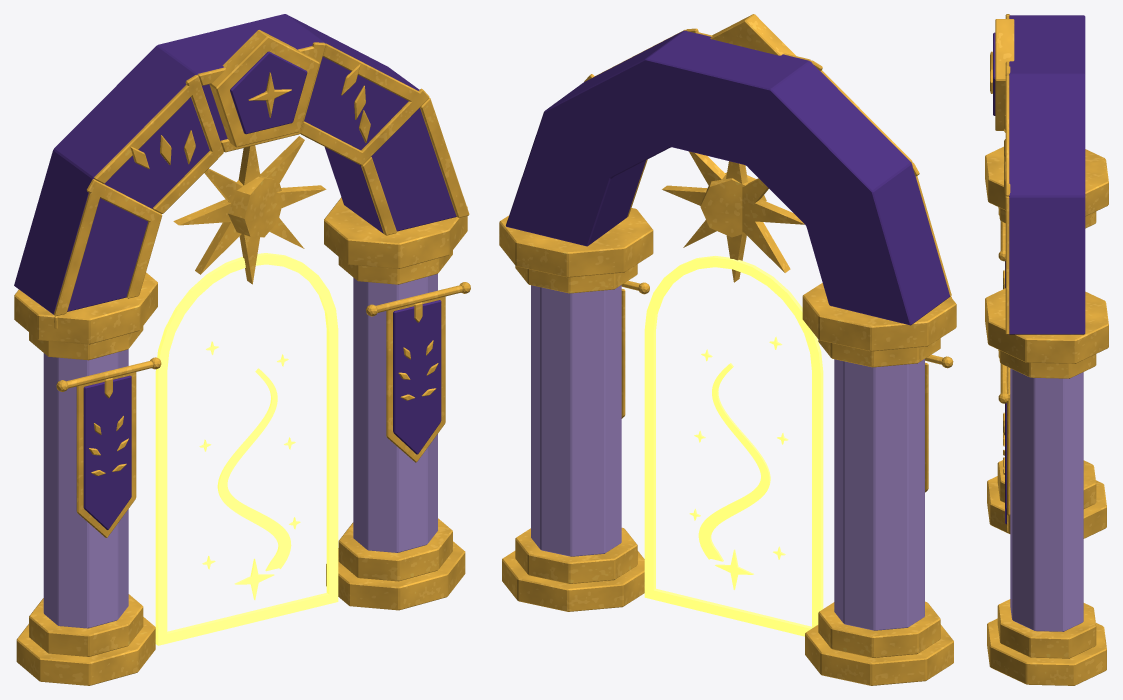
The model's file is Puerta.fbx.
3 renders of one model, left to right at view 1: azimuth 30°, elevation 25°; view 2: azimuth 150°, elevation 25°; view 3: azimuth 270°, elevation 25°, orthographic. The views are drawn at different scales.
Parts seen in each view (by area): view 1: Kit_Puerta, Kit_Puerta_Hoja, Kit_Puerta_Sol; view 2: Kit_Puerta, Kit_Puerta_Hoja, Kit_Puerta_Sol; view 3: Kit_Puerta.
Boxes of the visible parts, box(x1,y1,x2,y2) form: Kit_Puerta: box(14, 14, 470, 685); Kit_Puerta_Hoja: box(155, 253, 338, 645); Kit_Puerta_Sol: box(173, 136, 326, 284); Kit_Puerta: box(499, 14, 956, 685); Kit_Puerta_Hoja: box(644, 256, 823, 636); Kit_Puerta_Sol: box(662, 151, 804, 282); Kit_Puerta: box(985, 14, 1108, 685).
Size of the model in its own units: 6.21 by 8.17 by 1.62.
